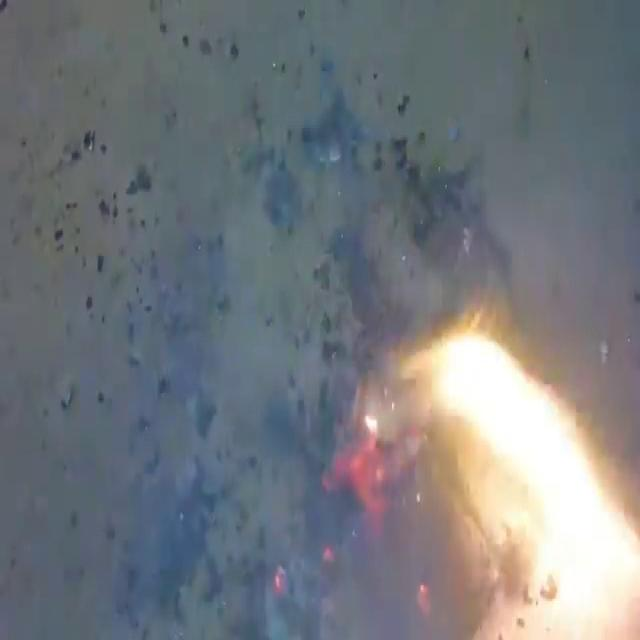Fire: (2, 4, 636, 636), (331, 303, 638, 636)
